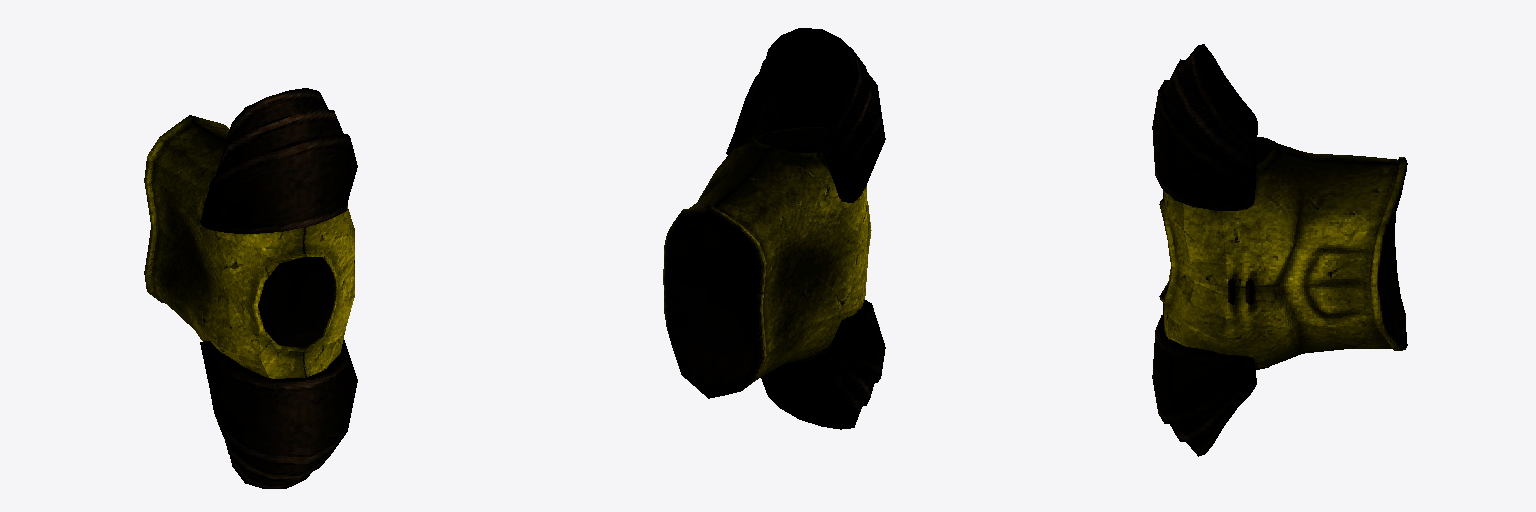
3 views of the same model, side by side, from view 1: azimuth 30°, elevation 25°; view 2: azimuth 150°, elevation 25°; view 3: azimuth 270°, elevation 25° (orthographic).
Bounding box in the file's own units: 18.88 × 47.2 × 27.47.
Materials: 1 (1 with a texture image).